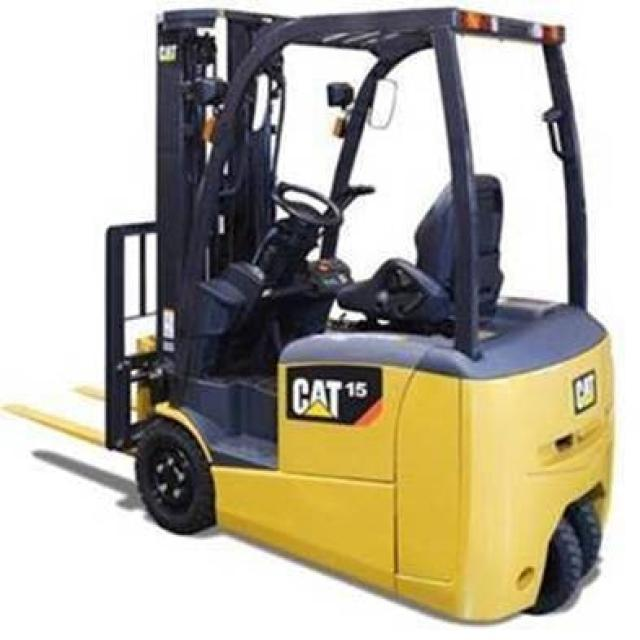forklift: (96, 9, 624, 626)
